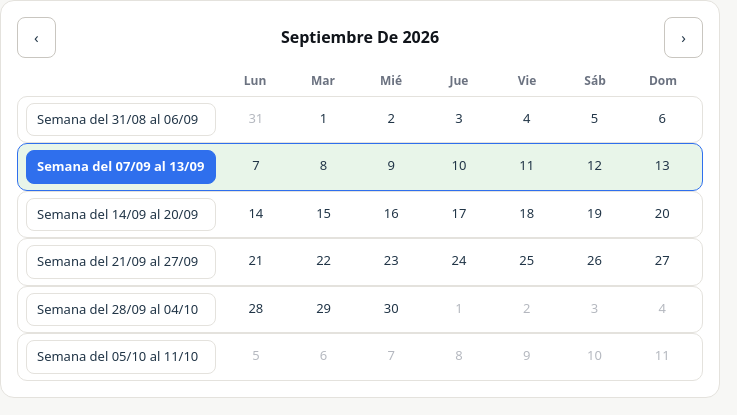
Scenario: MonthCalendar (elegir semana) › navega entre meses con los botones anterior/siguiente
Click the button named "Mes siguiente" at (684, 37), box [664,17,703,58]
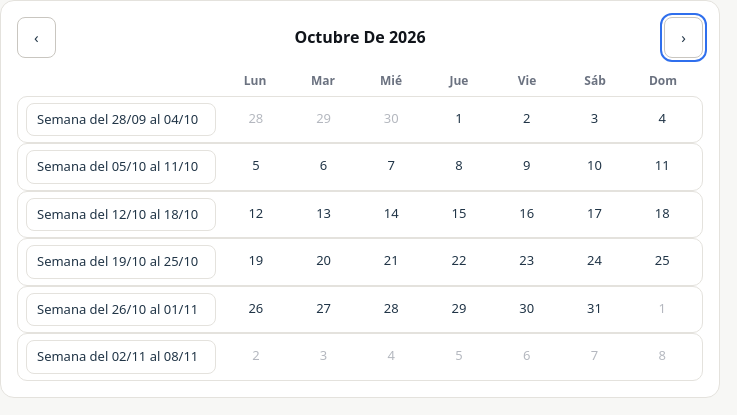
expect the button "octubre de 2026" is shown: met, box [284,21,436,53]
Click the button named "Mes anterior" at (36, 37), box [17,17,56,58]
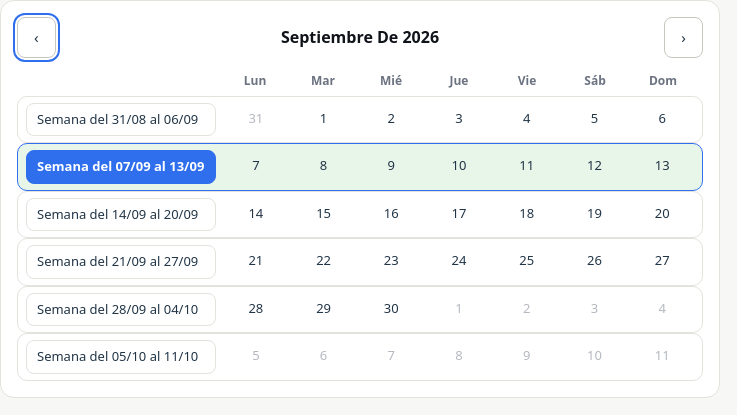
Click the button named "Mes anterior" at (36, 37), box [17,17,56,58]
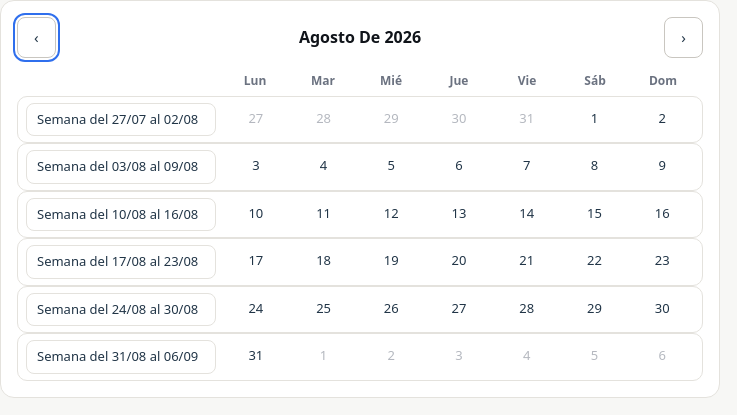
expect the button "agosto de 2026" is shown: met, box [289,21,431,53]
